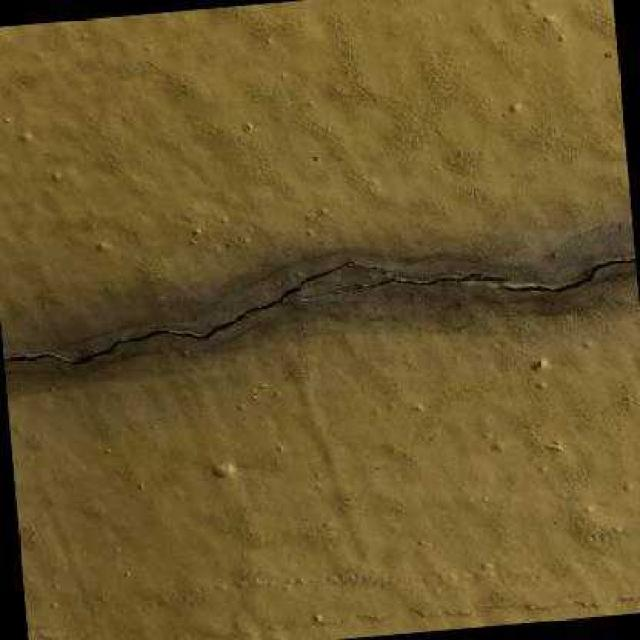D00: (2, 262, 382, 364), (340, 256, 636, 293)
